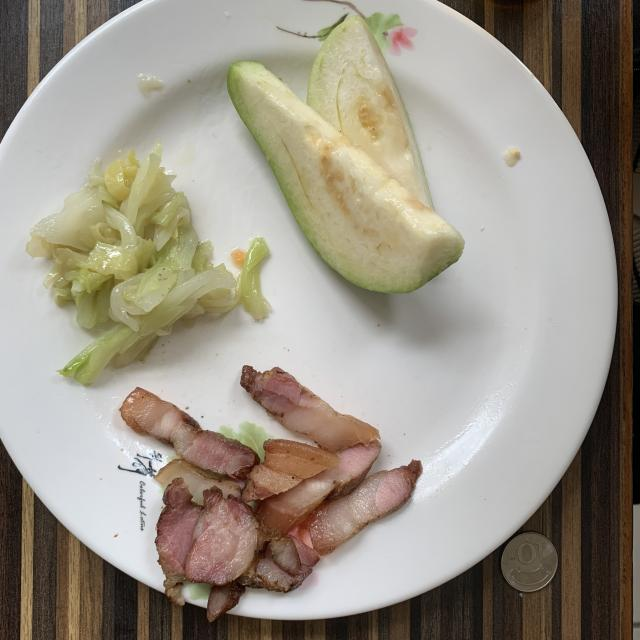cabbage: (26, 140, 269, 385)
coin: (501, 532, 558, 592)
grilled pork: (121, 368, 421, 621)
guava -sliced-: (228, 16, 464, 292)
